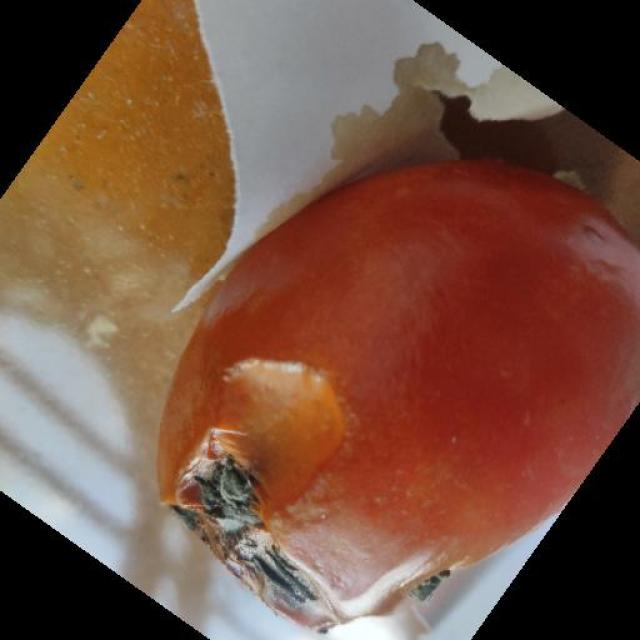Stale_tomato: (108, 80, 640, 640)
